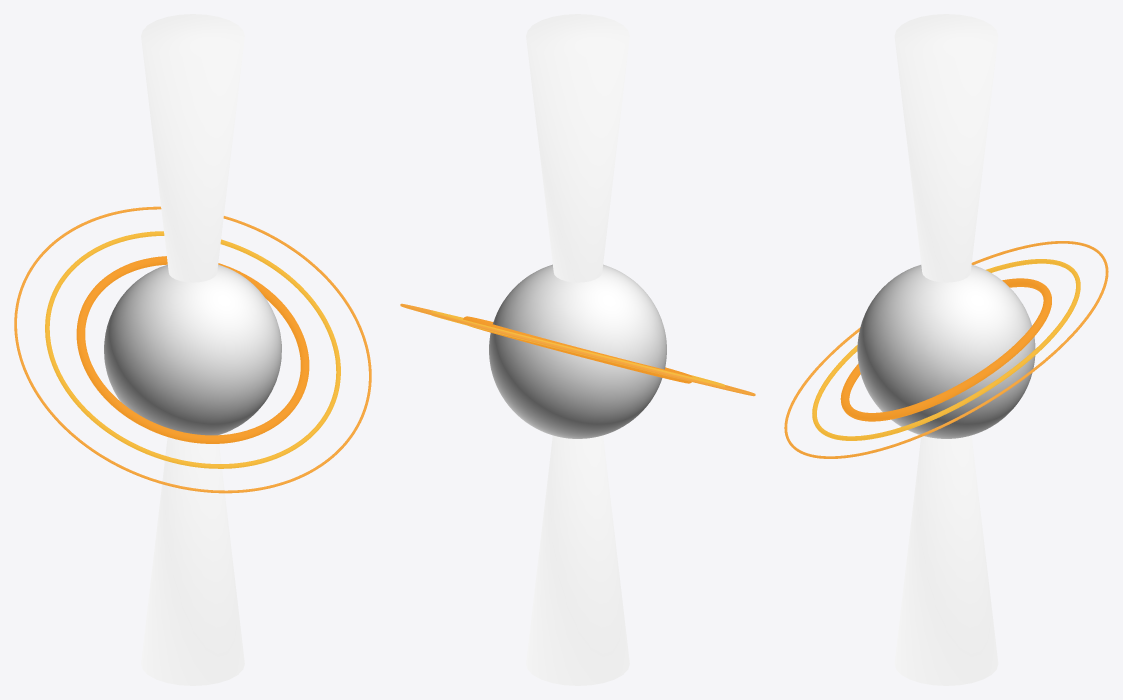
File: blackhole_web.glb
The picture shows the model from 3 angles, left to right: view 1: azimuth 30°, elevation 25°; view 2: azimuth 150°, elevation 25°; view 3: azimuth 270°, elevation 25°; orthographic projection.
Parts seen in each view (by area): view 1: GravityLensShell, Jet_Outer_Top, Jet_Outer_Bottom, AccretionMid, AccretionOuter, AccretionFar; view 2: GravityLensShell, Jet_Outer_Top, Jet_Outer_Bottom, AccretionFar, AccretionMid, AccretionOuter; view 3: GravityLensShell, Jet_Outer_Top, Jet_Outer_Bottom, AccretionMid, AccretionOuter, AccretionFar.
Part boxes in pixels (x1,y1,x2,y2): GravityLensShell: [104, 264, 281, 435]; Jet_Outer_Top: [141, 14, 244, 282]; Jet_Outer_Bottom: [141, 437, 244, 685]; AccretionMid: [76, 256, 309, 443]; AccretionOuter: [45, 231, 340, 468]; AccretionFar: [14, 206, 371, 493]; GravityLensShell: [489, 264, 666, 438]; Jet_Outer_Top: [526, 14, 629, 282]; Jet_Outer_Bottom: [526, 435, 629, 685]; AccretionFar: [400, 303, 755, 396]; AccretionMid: [463, 316, 692, 383]; AccretionOuter: [431, 311, 725, 386]; GravityLensShell: [857, 265, 1035, 438]; Jet_Outer_Top: [894, 14, 998, 282]; Jet_Outer_Bottom: [894, 435, 998, 685]; AccretionMid: [840, 278, 1051, 421]; AccretionOuter: [812, 259, 1080, 440]; AccretionFar: [784, 241, 1108, 458].
Size of the model in its own units: 8.46 by 16 by 7.48.
